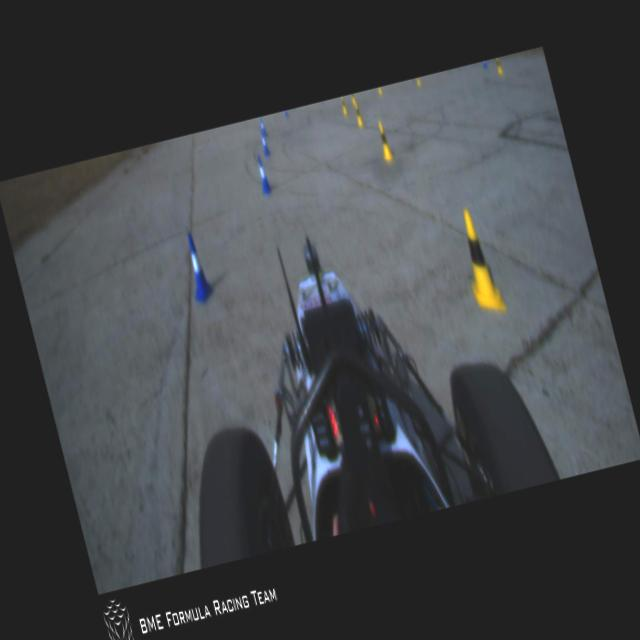blue_cone: (178, 226, 215, 308), (254, 155, 272, 196), (259, 131, 270, 156), (259, 117, 267, 136), (480, 59, 488, 68), (283, 110, 289, 117)
yellow_cone: (452, 205, 507, 318), (374, 120, 394, 164), (352, 101, 364, 128), (493, 56, 504, 76), (339, 96, 348, 116), (349, 92, 356, 104), (377, 86, 383, 95)
